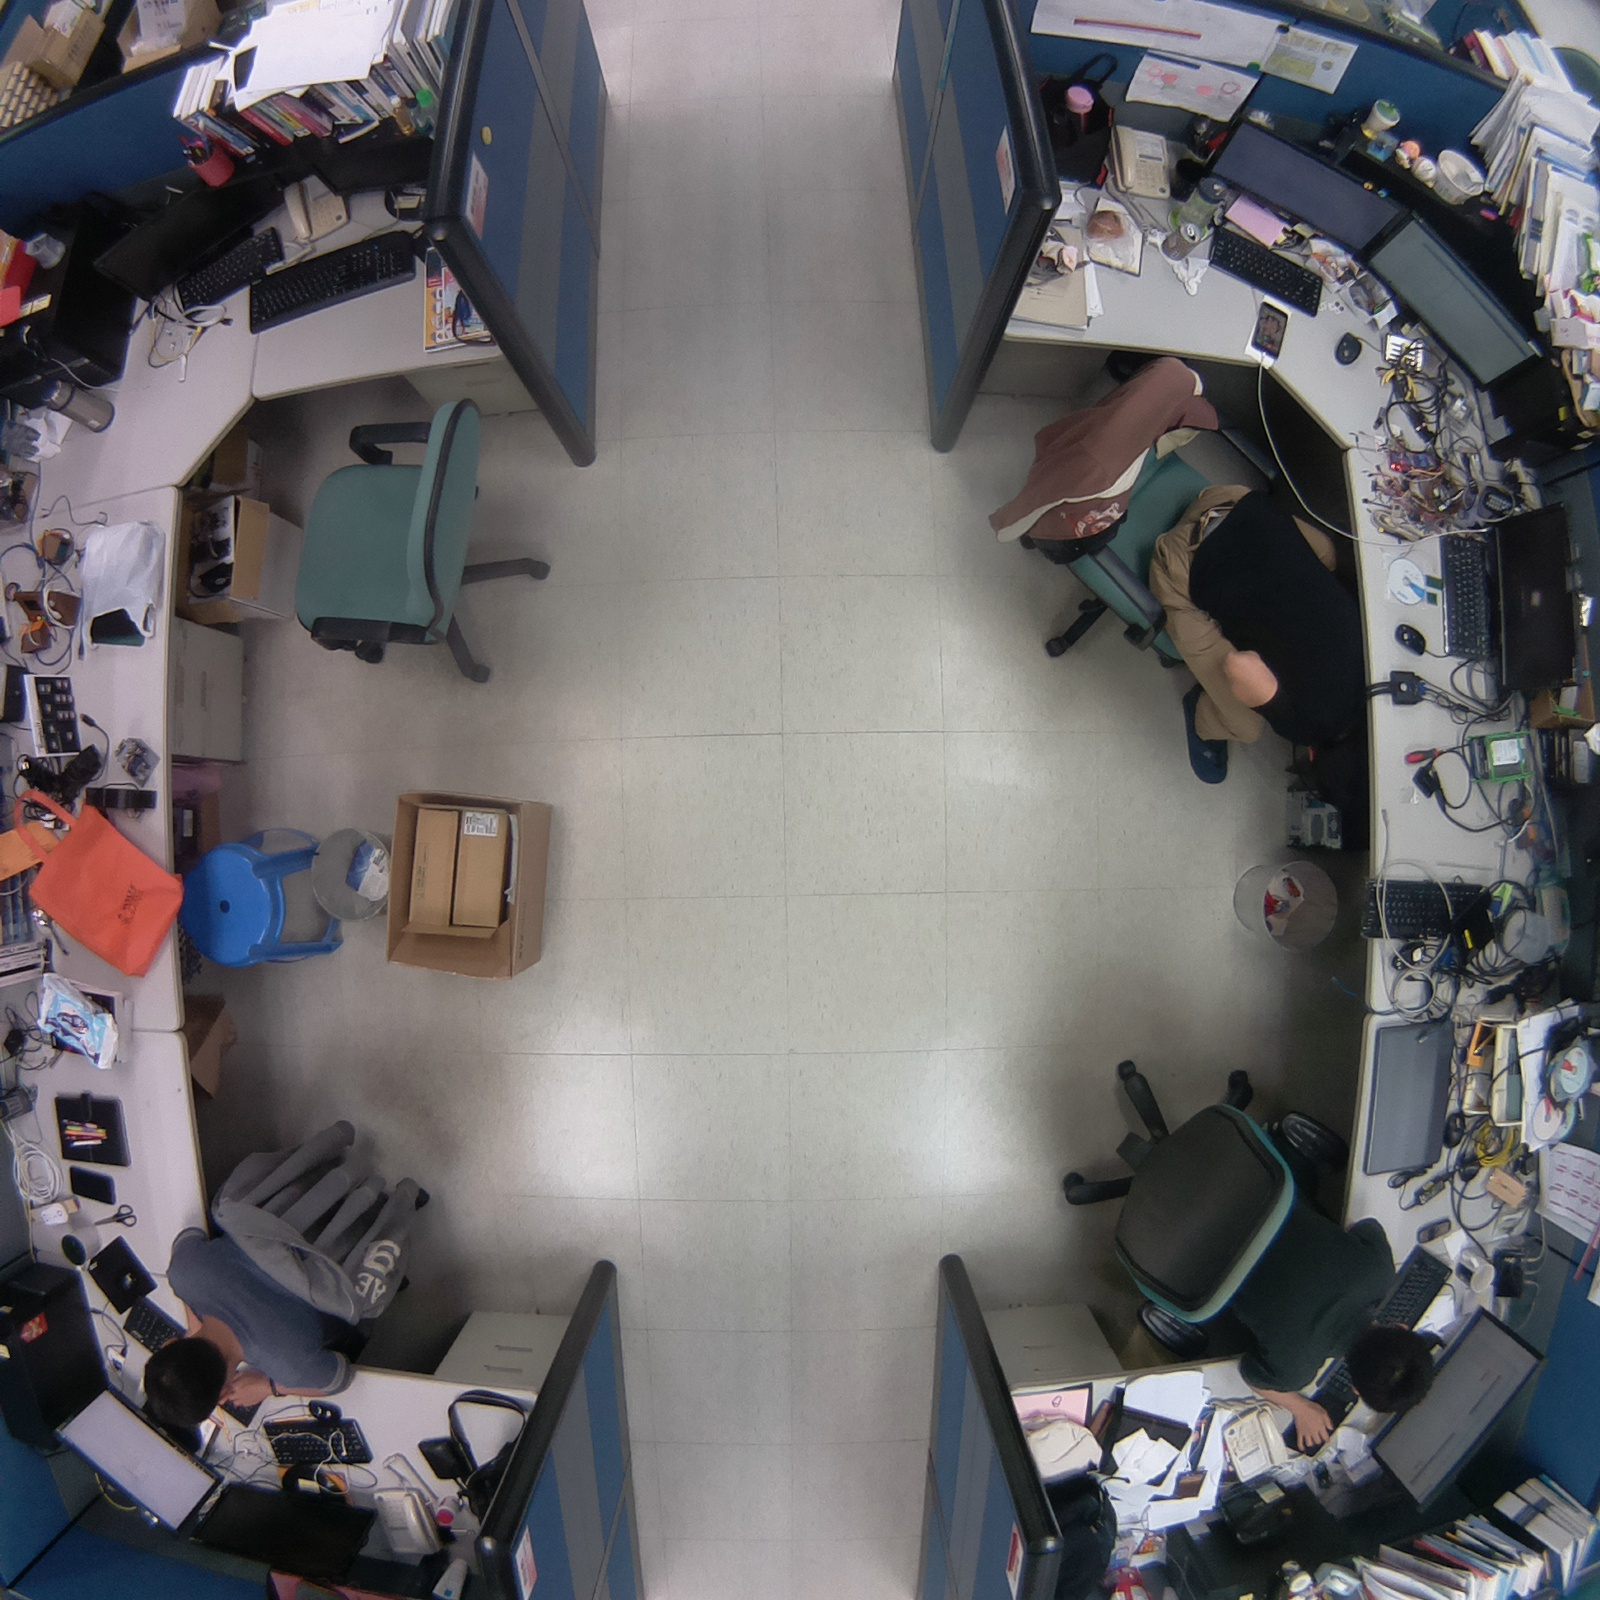chair: (273, 381, 563, 699)
head: (1341, 1316, 1446, 1420), (135, 1329, 235, 1437)
sitting: (991, 340, 1373, 801), (1050, 1032, 1461, 1458), (124, 1101, 447, 1438)
